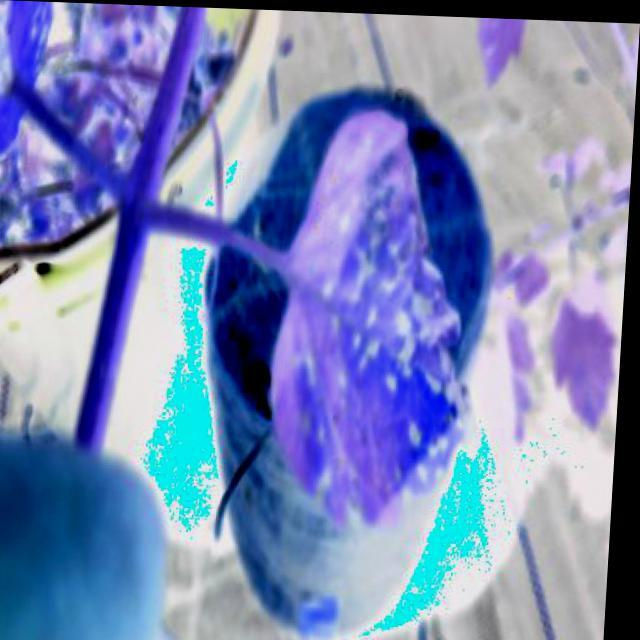Tomato Septoria spot leaf: (250, 95, 498, 578)
